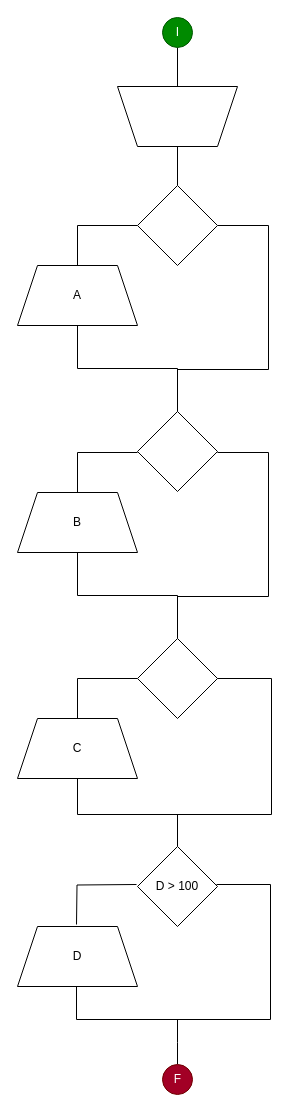
The diagram is 290 pixels wide and 1112 high, and some of its shapes have lost their labels. The box of each missing label's shape, as (x1, y1, x2, y2) in pixels:
A , B , C , D: (116, 86, 238, 146)
A > 100: (136, 184, 218, 266)
B > 100: (136, 410, 218, 492)
C > 100: (136, 638, 218, 718)
